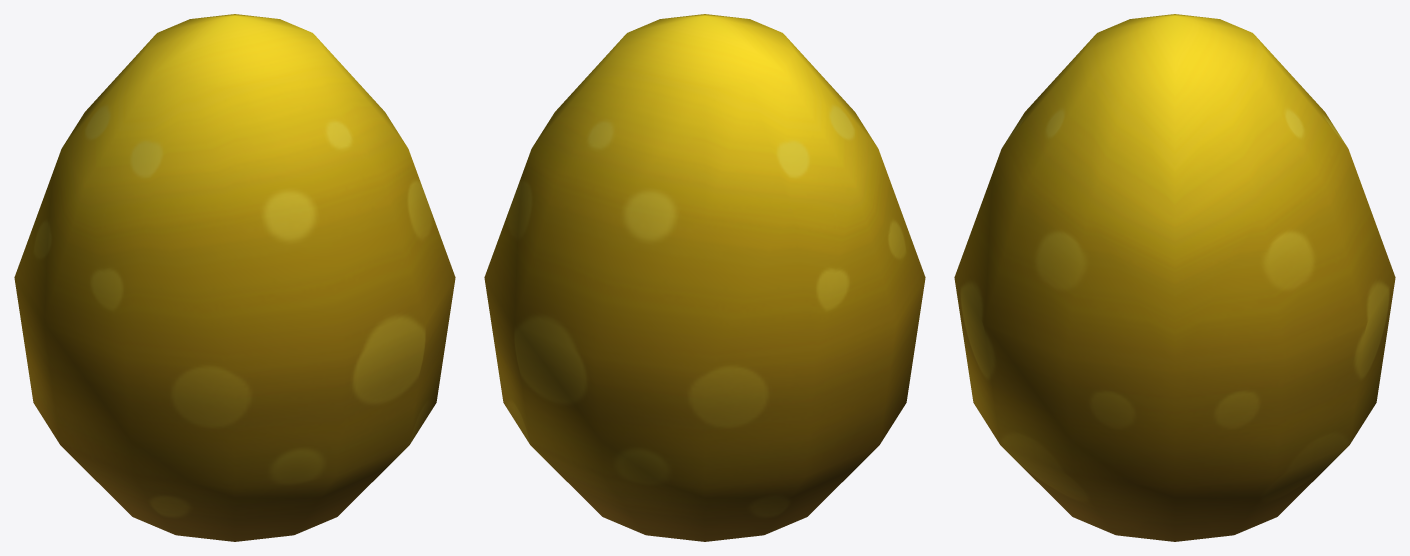
The model's file is gold_egg.FBX.
3 views of the same model, side by side, from view 1: azimuth 30°, elevation 25°; view 2: azimuth 150°, elevation 25°; view 3: azimuth 270°, elevation 25° (orthographic).
Parts seen in each view (by area): view 1: egg; view 2: egg; view 3: egg.
Part boxes in pixels (x1,y1,x2,y2): egg: [14, 14, 455, 541]; egg: [484, 14, 925, 541]; egg: [954, 14, 1395, 541].
Bounding box in the file's own units: 9.66 × 12.27 × 9.66.
1 material, 1 textured.
